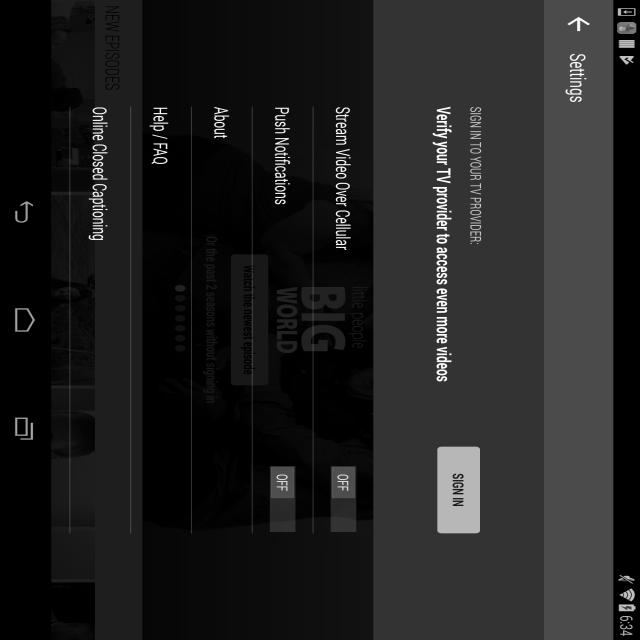Button: (426, 440, 493, 539)
ImageButton: (554, 12, 605, 42)
Switch: (260, 460, 310, 540), (323, 463, 370, 541)
TextView: (419, 105, 508, 387), (319, 101, 372, 256), (73, 104, 123, 245), (261, 98, 296, 215), (139, 96, 181, 170), (558, 48, 598, 109), (196, 95, 236, 151)
